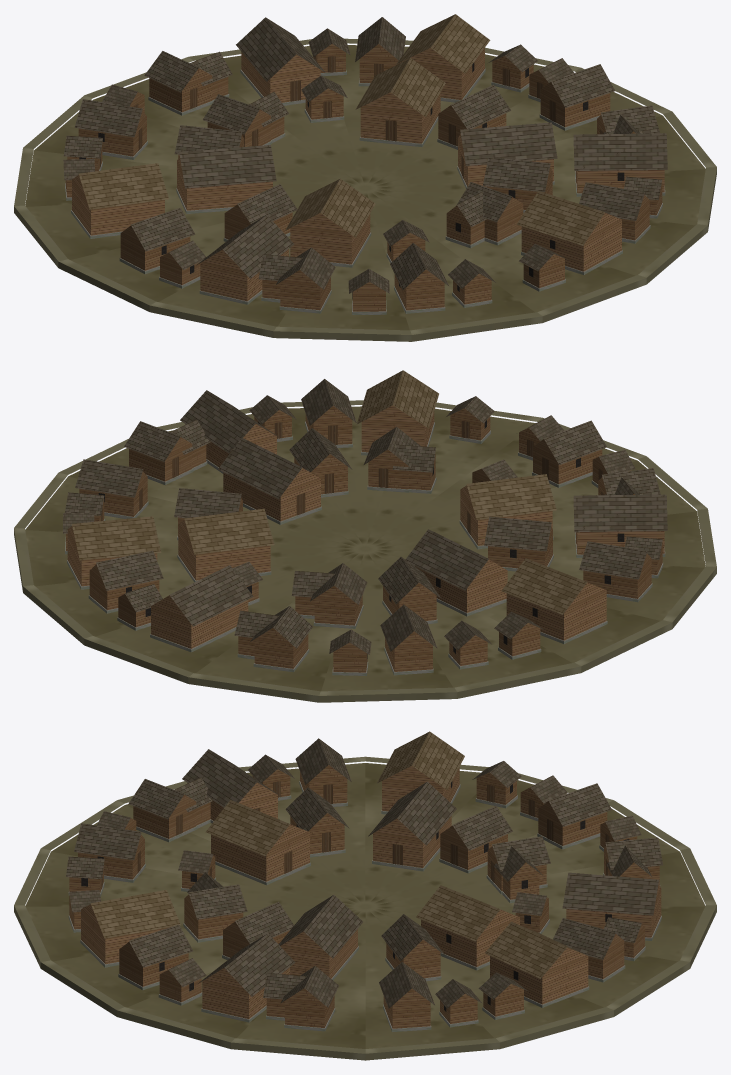
Rendered from ae_forest_village_large_lod2.glb.
The picture shows the model from 3 angles, top to bottom: view 1: azimuth 30°, elevation 25°; view 2: azimuth 150°, elevation 25°; view 3: azimuth 270°, elevation 25°; orthographic projection.
Visible parts, largest first — view 1: ae_forest_village_large_lod2; view 2: ae_forest_village_large_lod2; view 3: ae_forest_village_large_lod2.
Boxes of the visible parts, x1=… form: ae_forest_village_large_lod2: x1=14, y1=14, x2=716, y2=341; ae_forest_village_large_lod2: x1=14, y1=370, x2=716, y2=702; ae_forest_village_large_lod2: x1=14, y1=731, x2=716, y2=1060.
Bounding box in the file's own units: 1.9 × 0.1715 × 1.9.
1 material, 1 textured.
